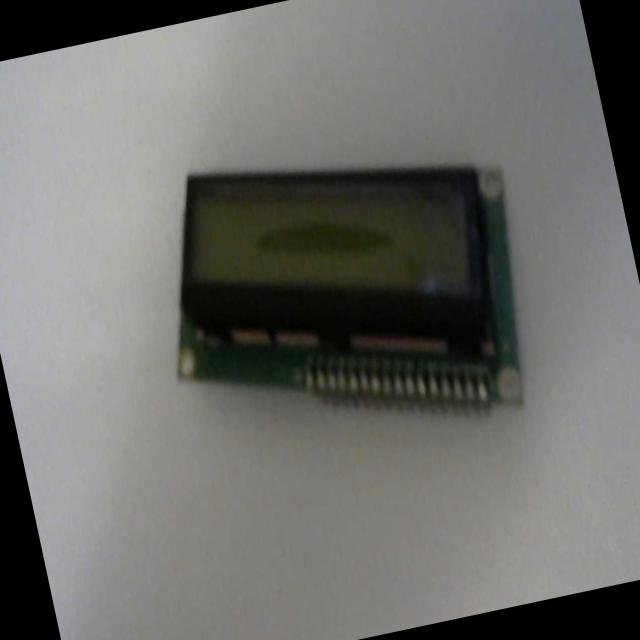lcd: (120, 74, 568, 498)
